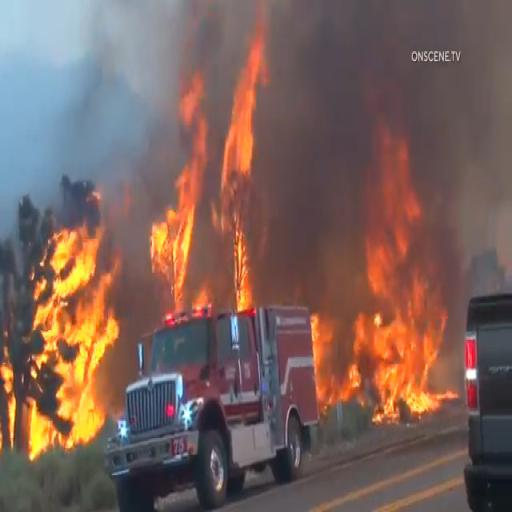fire: (358, 122, 451, 422), (7, 208, 121, 452), (209, 47, 259, 306), (142, 166, 194, 318)
